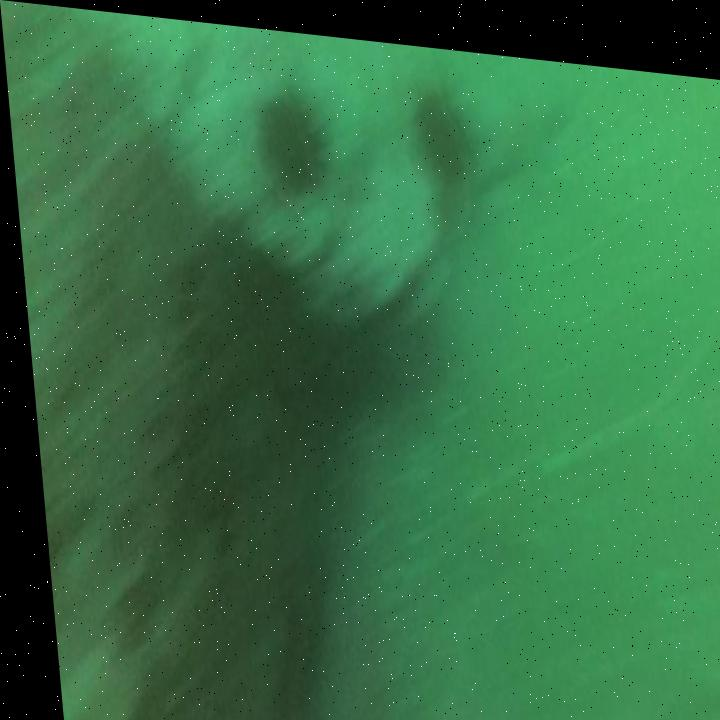echinus: (252, 78, 328, 202), (410, 73, 476, 180)
